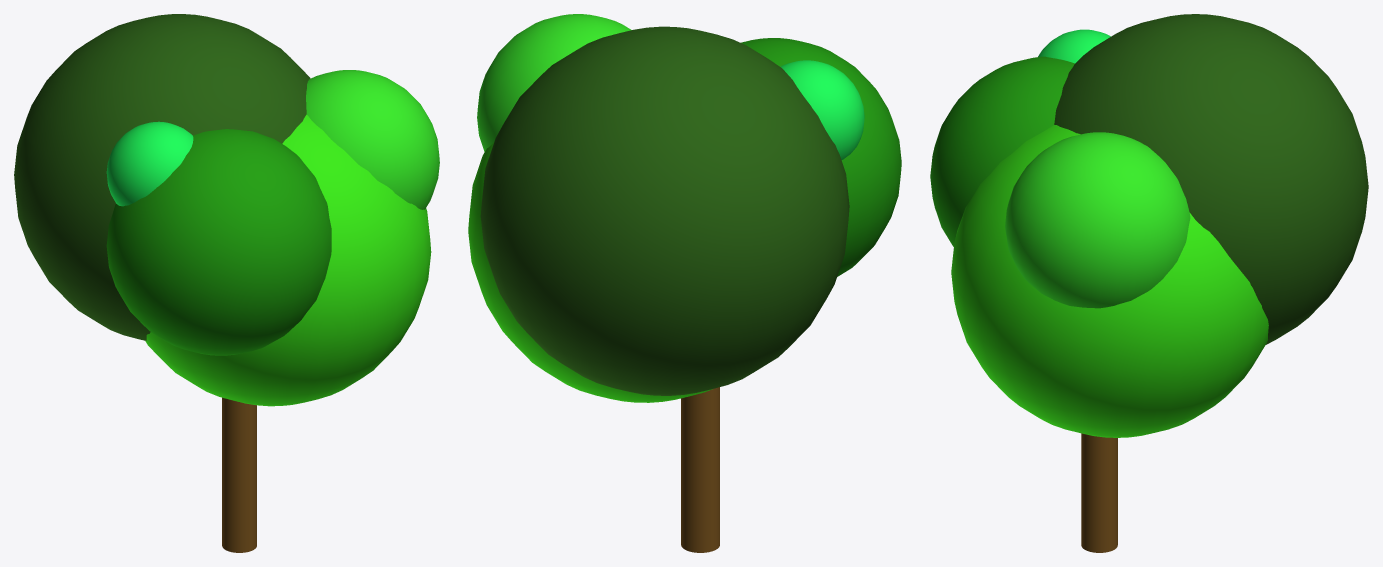
The model's file is conifertree.fbx.
3 renders of one model, left to right at view 1: azimuth 30°, elevation 25°; view 2: azimuth 150°, elevation 25°; view 3: azimuth 270°, elevation 25°, orthographic. The views are drawn at different scales.
Visible parts, largest first — view 1: Leaves2, Leaves1, Leaves3, Leaves5, Trunk, Leaves4; view 2: Leaves2, Leaves1, Leaves5, Trunk, Leaves3, Leaves4; view 3: Leaves2, Leaves3, Leaves5, Leaves1, Trunk, Leaves4.
Part boxes in pixels (x1,y1,x2,y2): Leaves2: [14, 14, 310, 340]; Leaves1: [106, 129, 331, 355]; Leaves3: [145, 114, 431, 406]; Leaves5: [306, 70, 439, 209]; Trunk: [222, 397, 256, 552]; Leaves4: [106, 121, 193, 206]; Leaves2: [480, 26, 849, 395]; Leaves1: [741, 38, 901, 276]; Leaves5: [477, 14, 631, 151]; Trunk: [681, 387, 719, 552]; Leaves3: [468, 142, 712, 402]; Leaves4: [780, 60, 864, 159]; Leaves2: [1054, 14, 1368, 344]; Leaves3: [951, 125, 1268, 437]; Leaves5: [1005, 132, 1190, 308]; Leaves1: [930, 56, 1074, 246]; Trunk: [1081, 433, 1117, 552]; Leaves4: [1038, 29, 1110, 63].
Bounding box in the file's own units: 351 × 471 × 368.
